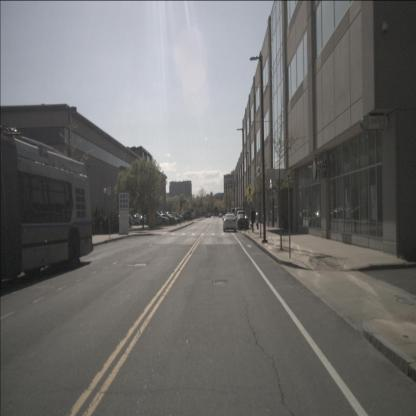human-pedestrian-adult: (250, 207, 256, 233)
vehicle-car: (146, 212, 170, 226), (222, 213, 236, 232), (309, 211, 324, 228), (236, 209, 247, 227), (236, 214, 249, 229), (157, 214, 175, 224), (132, 213, 146, 225), (168, 212, 184, 222), (181, 211, 192, 220)
vehicle-truck: (130, 215, 143, 225)
